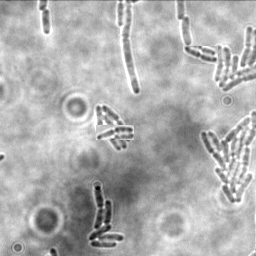Dividing: (123, 1, 142, 95), (183, 46, 218, 64), (96, 125, 134, 140), (41, 8, 52, 35)
Microcolony: (200, 109, 255, 205), (212, 25, 255, 94), (89, 184, 126, 248), (96, 103, 132, 150), (182, 16, 193, 48)
